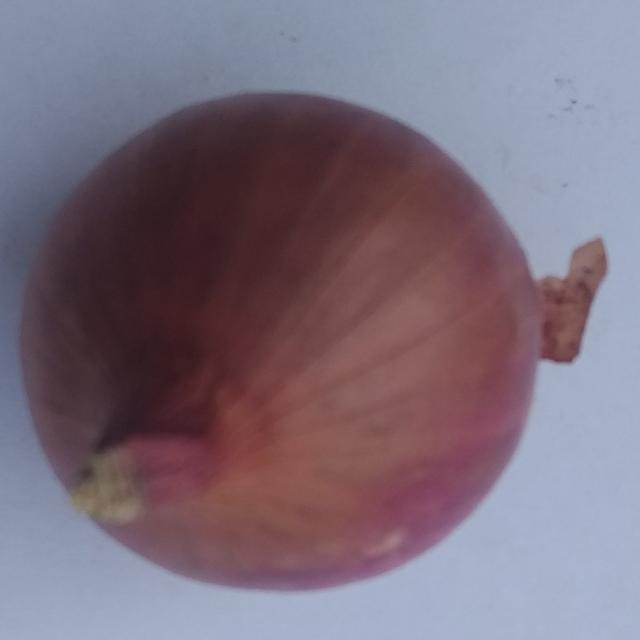onion: (10, 87, 612, 598)
